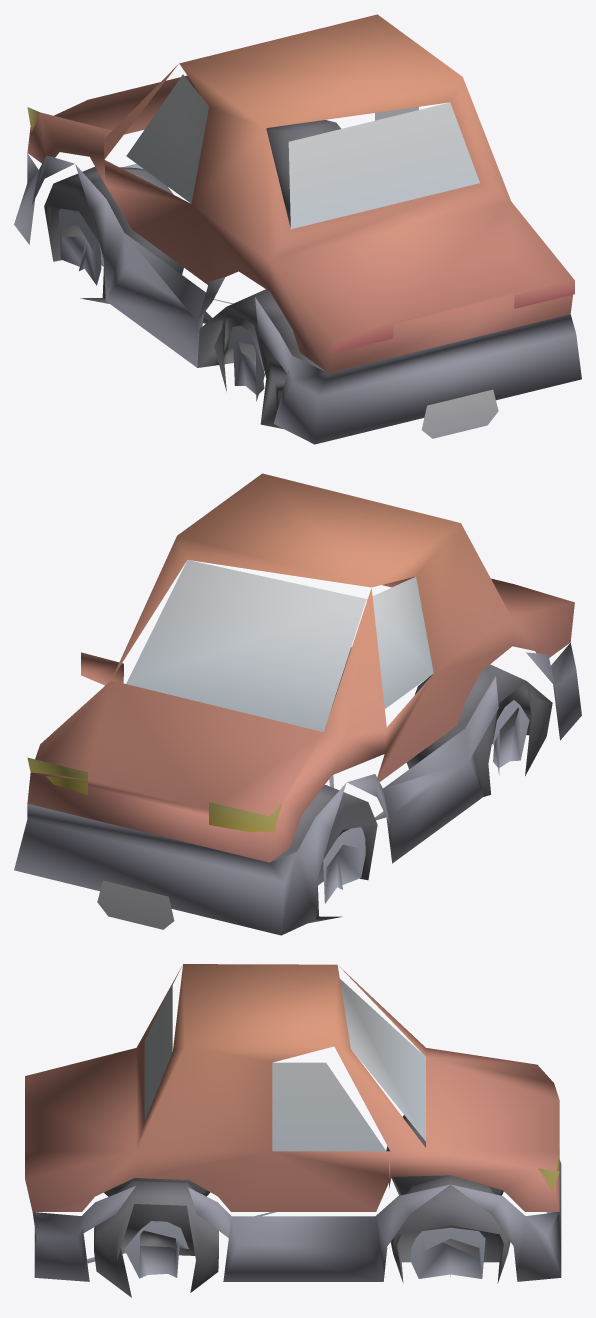
Rendered from car_sedan_lod1.glb.
3 renders of one model, top to bottom at view 1: azimuth 30°, elevation 25°; view 2: azimuth 150°, elevation 25°; view 3: azimuth 270°, elevation 25°, orthographic. The views are drawn at different scales.
Bounding box in the file's own units: 2.1 × 1.9 × 3.82.
